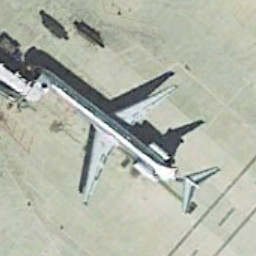Airplane: (22, 44, 221, 234)
